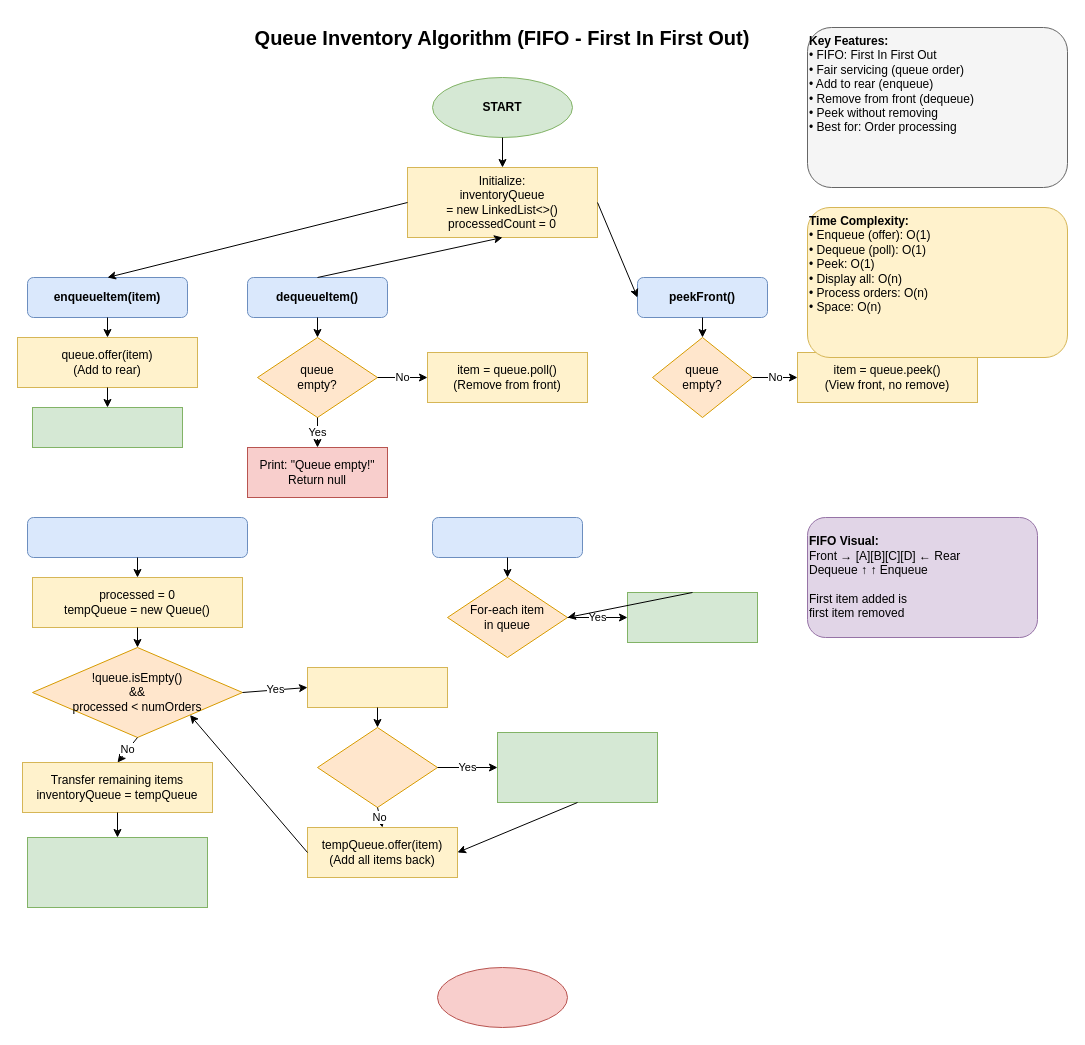
This 1085x1045 diagram has some shape labels left out. Here are the shapes that lost their labels. From the top down, the centre of each, then its label:
pixel 107 427: Print: "Item enqueued"
pixel 137 537: processOrders(numOrders)
pixel 507 537: displayQueue()
pixel 692 617: Print: position + item
pixel 377 687: item = queue.poll()
pixel 377 767: status == "On-hand"?
pixel 577 767: Process order: processed++ processedCount++ item.status = "Sold"
pixel 117 872: Display Summary: • Orders processed • Remaining queue size
pixel 502 997: END
